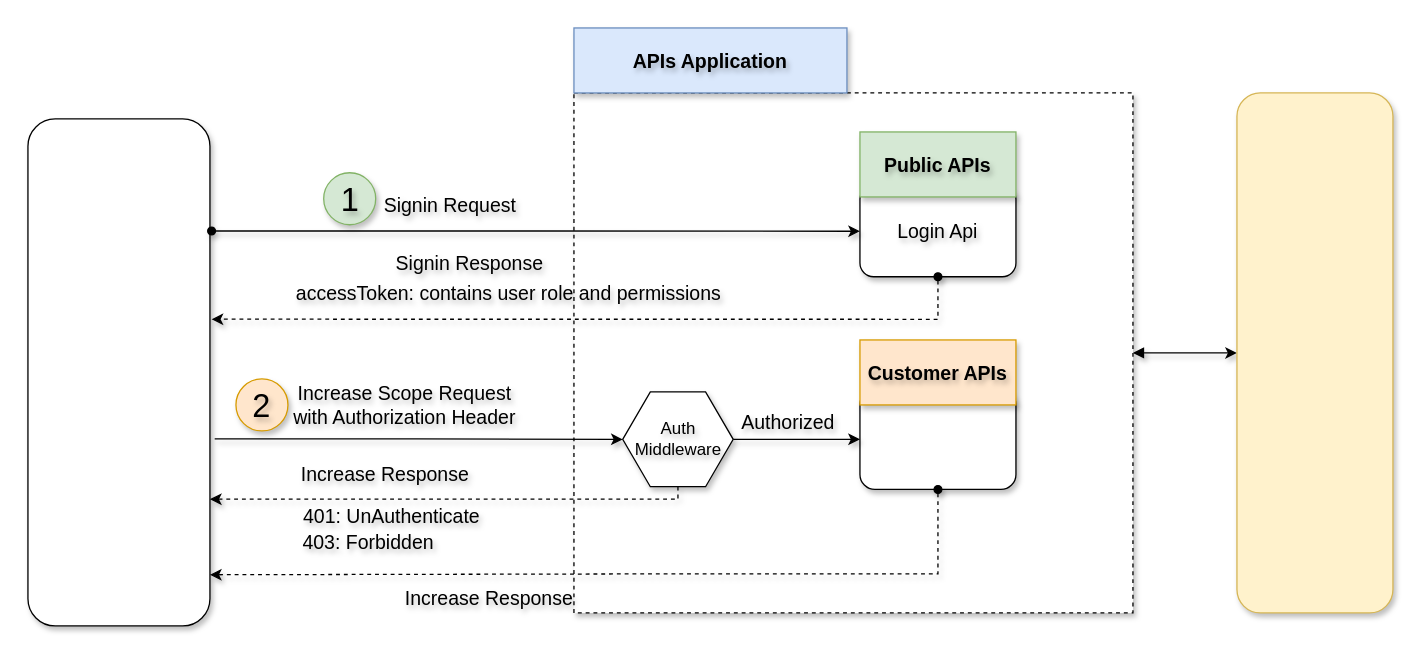
Image size: 1424x658. Some labels were removed from this diagram. The shapes that lost their labels are listed below. From the top down, each one's centre as x and y in pixels, then its label:
the point at 119,373: Clients
the point at 1315,354: Database
the point at 938,441: Increase Score Api
